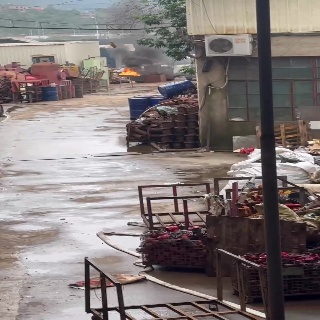fire: (119, 68, 139, 75)
